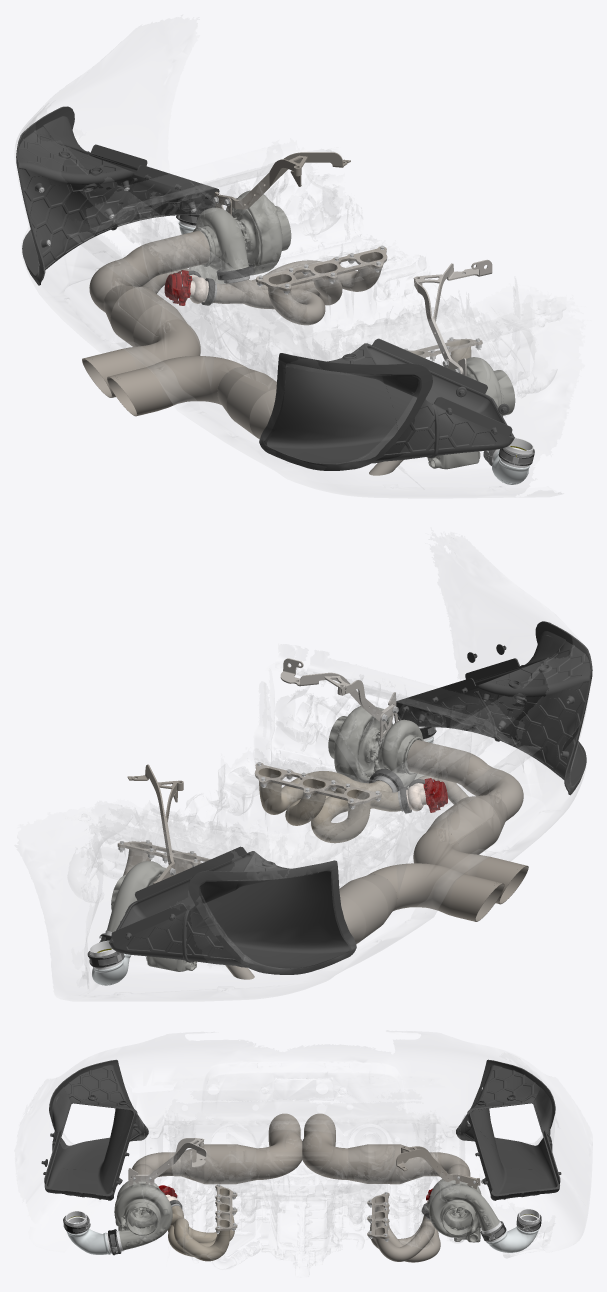
File: 997-horseman.glb
3 renders of one model, top to bottom at view 1: azimuth 30°, elevation 25°; view 2: azimuth 150°, elevation 25°; view 3: azimuth 270°, elevation 25°, orthographic. The views are drawn at different scales.
Parts seen in each view (by area): view 1: ic-duct-1, engine-scan, exhaust-system-1, rear-bumper, turbos, manifold-driver-1, turbo-mount-3, turbo-mount-2, wastegate-1, charge-clamp-2, charge-piping-1, head-flange-1; view 2: ic-duct-1, engine-scan, exhaust-system-1, rear-bumper, turbos, manifold-pass-1, turbo-mount-2, head-flange-2, turbo-mount-3, manifold-driver-1, wastegate-2, charge-clamp-1 (+1 smaller); view 3: ic-duct-1, engine-scan, exhaust-system-1, turbos, manifold-driver-1, manifold-pass-1, charge-piping-1, turbo-mount-2, turbo-mount-3, rear-bumper, charge-clamp-2, head-flange-2 (+2 smaller).
Part boxes in pixels (x1,y1,x2,y2): ic-duct-1: [16, 106, 514, 470]; engine-scan: [92, 149, 564, 473]; exhaust-system-1: [82, 230, 276, 438]; rear-bumper: [14, 51, 561, 497]; turbos: [189, 190, 515, 469]; manifold-driver-1: [213, 246, 387, 325]; turbo-mount-3: [214, 152, 350, 209]; turbo-mount-2: [413, 259, 492, 375]; wastegate-1: [164, 270, 208, 305]; charge-clamp-2: [498, 438, 534, 467]; charge-piping-1: [178, 221, 530, 484]; head-flange-1: [256, 247, 386, 288]; ic-duct-1: [109, 621, 592, 974]; engine-scan: [68, 664, 519, 902]; exhaust-system-1: [339, 740, 528, 943]; rear-bumper: [60, 538, 590, 1000]; turbos: [107, 706, 425, 971]; manifold-pass-1: [258, 768, 401, 843]; turbo-mount-2: [280, 658, 396, 721]; head-flange-2: [254, 763, 381, 806]; turbo-mount-3: [127, 764, 183, 884]; manifold-driver-1: [117, 841, 203, 875]; wastegate-2: [406, 778, 447, 812]; charge-clamp-1: [87, 940, 124, 969]; ic-duct-1: [43, 1059, 561, 1200]; engine-scan: [124, 1080, 467, 1268]; exhaust-system-1: [132, 1113, 470, 1184]; turbos: [114, 1179, 499, 1250]; manifold-driver-1: [367, 1193, 440, 1262]; manifold-pass-1: [168, 1188, 234, 1261]; charge-piping-1: [66, 1220, 539, 1254]; turbo-mount-2: [128, 1138, 206, 1181]; turbo-mount-3: [396, 1146, 480, 1185]; rear-bumper: [36, 1052, 592, 1257]; charge-clamp-2: [63, 1211, 90, 1234]; head-flange-2: [215, 1185, 237, 1230].
Size of the model in its own units: 0.9296 by 0.6646 by 1.84.
